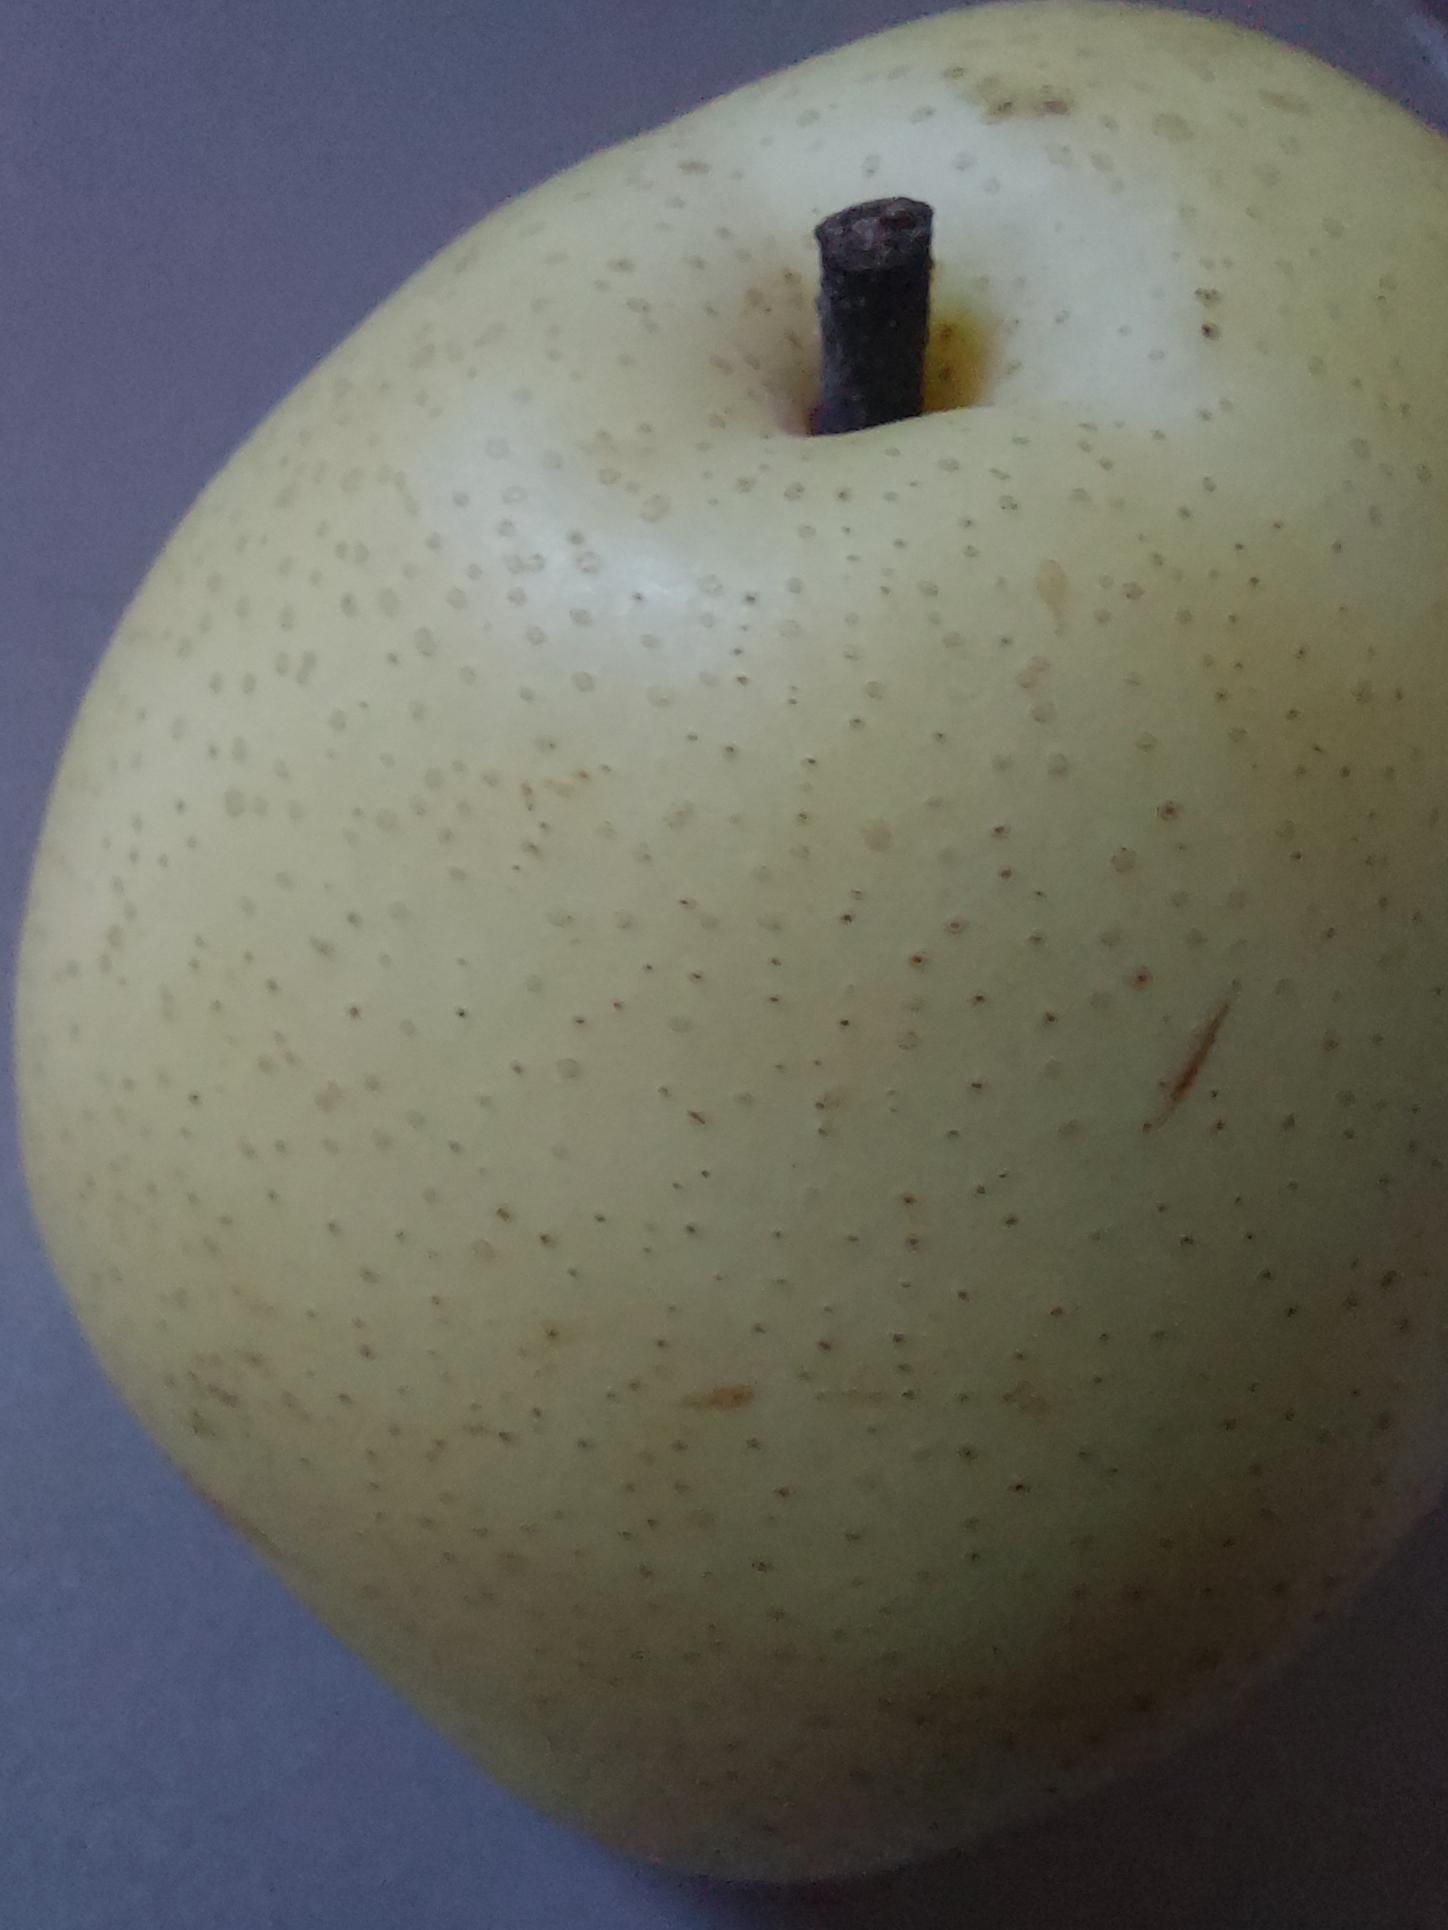Good Pear: (3, 0, 1448, 1915)
